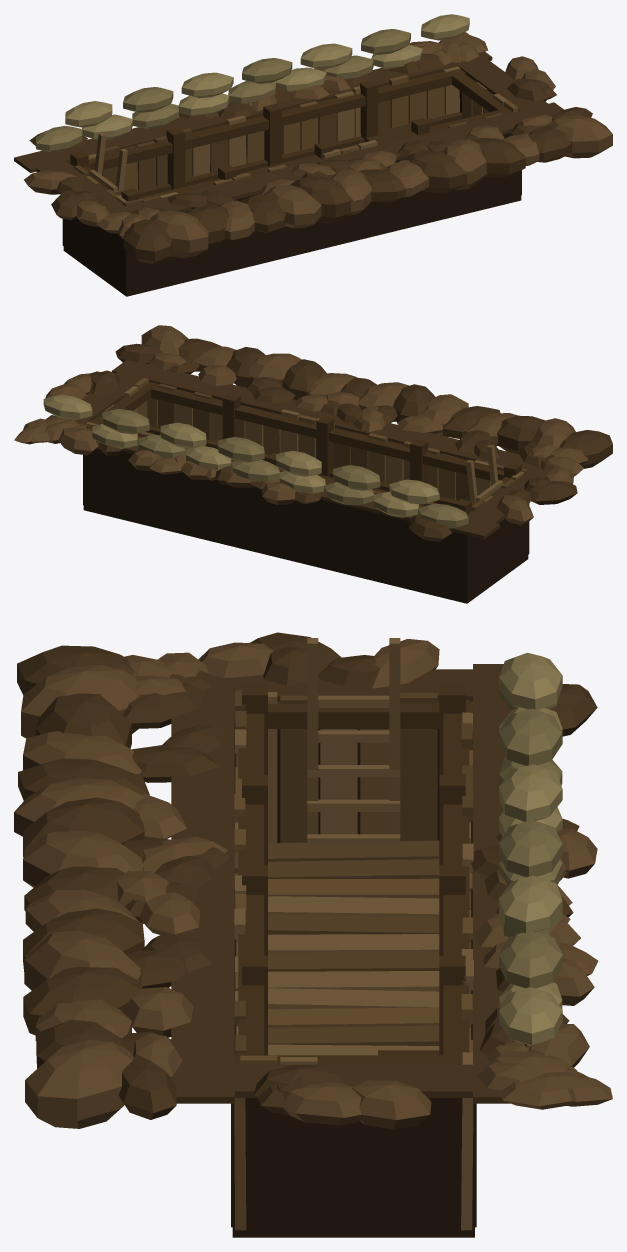
File: loopgraaf.glb
3 views of the same model, one above another, from view 1: azimuth 30°, elevation 25°; view 2: azimuth 150°, elevation 25°; view 3: azimuth 270°, elevation 25° (orthographic). The views are drawn at different scales.
Visible parts, largest first — view 1: Loopgraaf_aarde2, Loopgraaf_aarde, Loopgraaf_modder, Loopgraaf_balk, Loopgraaf_zak1, Loopgraaf_zak2, Loopgraaf_hout1, Loopgraaf_hout3, Loopgraaf_hout2; view 2: Loopgraaf_modder, Loopgraaf_aarde2, Loopgraaf_aarde, Loopgraaf_balk, Loopgraaf_zak1, Loopgraaf_zak2, Loopgraaf_hout3, Loopgraaf_hout1, Loopgraaf_hout2; view 3: Loopgraaf_aarde2, Loopgraaf_aarde, Loopgraaf_hout3, Loopgraaf_modder, Loopgraaf_hout2, Loopgraaf_balk, Loopgraaf_zak1, Loopgraaf_hout1, Loopgraaf_zak2.
Part boxes in pixels (left/top/right/bottom): Loopgraaf_aarde2: left=14, top=51, right=592, bottom=263; Loopgraaf_aarde: left=24, top=32, right=612, bottom=258; Loopgraaf_modder: left=62, top=90, right=521, bottom=296; Loopgraaf_balk: left=67, top=69, right=512, bottom=201; Loopgraaf_zak1: left=65, top=14, right=469, bottom=139; Loopgraaf_zak2: left=36, top=29, right=410, bottom=152; Loopgraaf_hout1: left=86, top=75, right=518, bottom=190; Loopgraaf_hout3: left=88, top=66, right=507, bottom=203; Loopgraaf_hout2: left=74, top=100, right=502, bottom=206; Loopgraaf_modder: left=83, top=449, right=529, bottom=603; Loopgraaf_aarde2: left=45, top=338, right=612, bottom=541; Loopgraaf_aarde: left=14, top=325, right=587, bottom=525; Loopgraaf_balk: left=89, top=381, right=521, bottom=515; Loopgraaf_zak1: left=43, top=395, right=439, bottom=517; Loopgraaf_zak2: left=102, top=409, right=468, bottom=528; Loopgraaf_hout3: left=86, top=386, right=524, bottom=501; Loopgraaf_hout1: left=134, top=378, right=493, bottom=502; Loopgraaf_hout2: left=158, top=383, right=527, bottom=510; Loopgraaf_aarde2: left=17, top=632, right=597, bottom=1119; Loopgraaf_aarde: left=14, top=639, right=612, bottom=1129; Loopgraaf_hout3: left=234, top=638, right=473, bottom=1230; Loopgraaf_modder: left=231, top=720, right=476, bottom=1237; Loopgraaf_hout2: left=234, top=690, right=473, bottom=1055; Loopgraaf_balk: left=234, top=684, right=472, bottom=1064; Loopgraaf_zak1: left=499, top=653, right=562, bottom=1045; Loopgraaf_hout1: left=234, top=729, right=472, bottom=1230; Loopgraaf_zak2: left=499, top=688, right=562, bottom=988.
Size of the model in its own units: 6.12 by 1.45 by 3.22.
